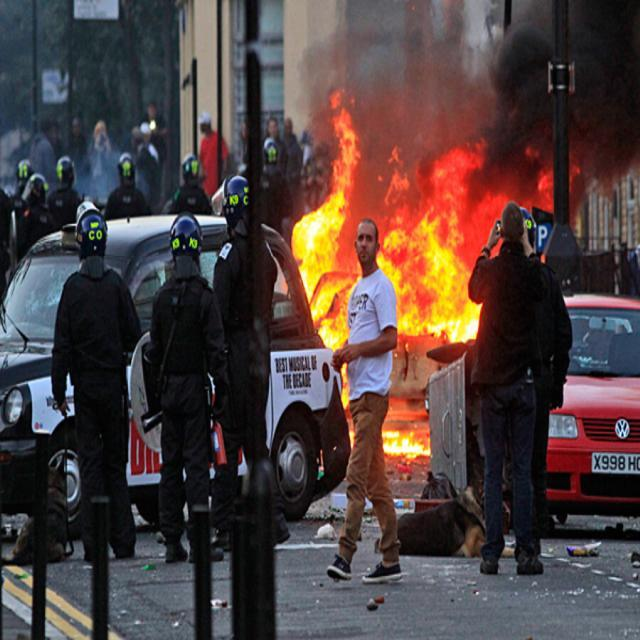Fire: (286, 116, 376, 374), (382, 132, 483, 334)
Smoke: (495, 6, 640, 206), (300, 3, 492, 108)
